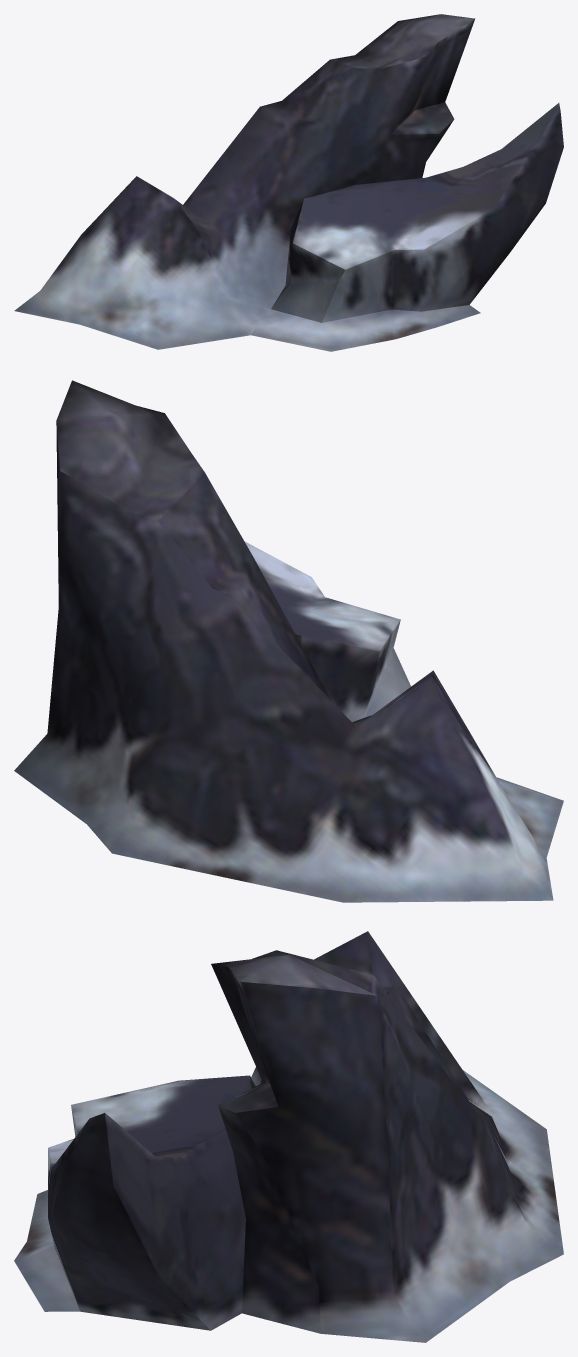
The picture shows the model from 3 angles, top to bottom: view 1: azimuth 30°, elevation 25°; view 2: azimuth 150°, elevation 25°; view 3: azimuth 270°, elevation 25°; orthographic projection. The views are drawn at different scales.
Visible parts, largest first — view 1: MB0002_05_05; view 2: MB0002_05_05; view 3: MB0002_05_05.
Boxes of the visible parts, <box> form: MB0002_05_05: <box>14,14,563,351</box>; MB0002_05_05: <box>14,380,563,902</box>; MB0002_05_05: <box>14,931,563,1342</box>.
Bounding box in the file's own units: 3.92 × 1.97 × 2.63.
